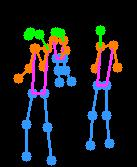normal: (78, 20, 131, 156)
